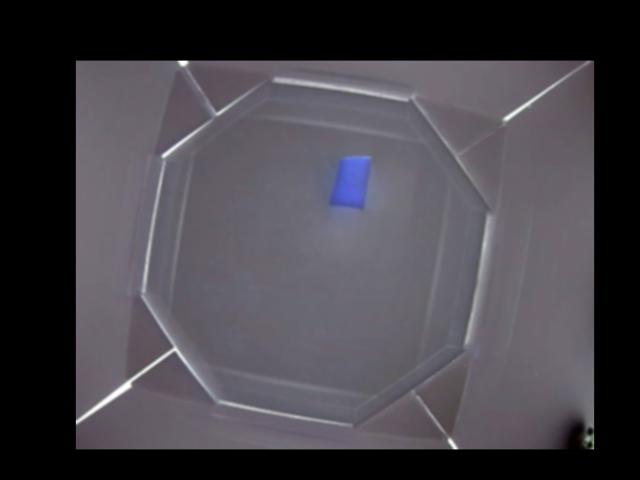Potato: (331, 155, 372, 209)
